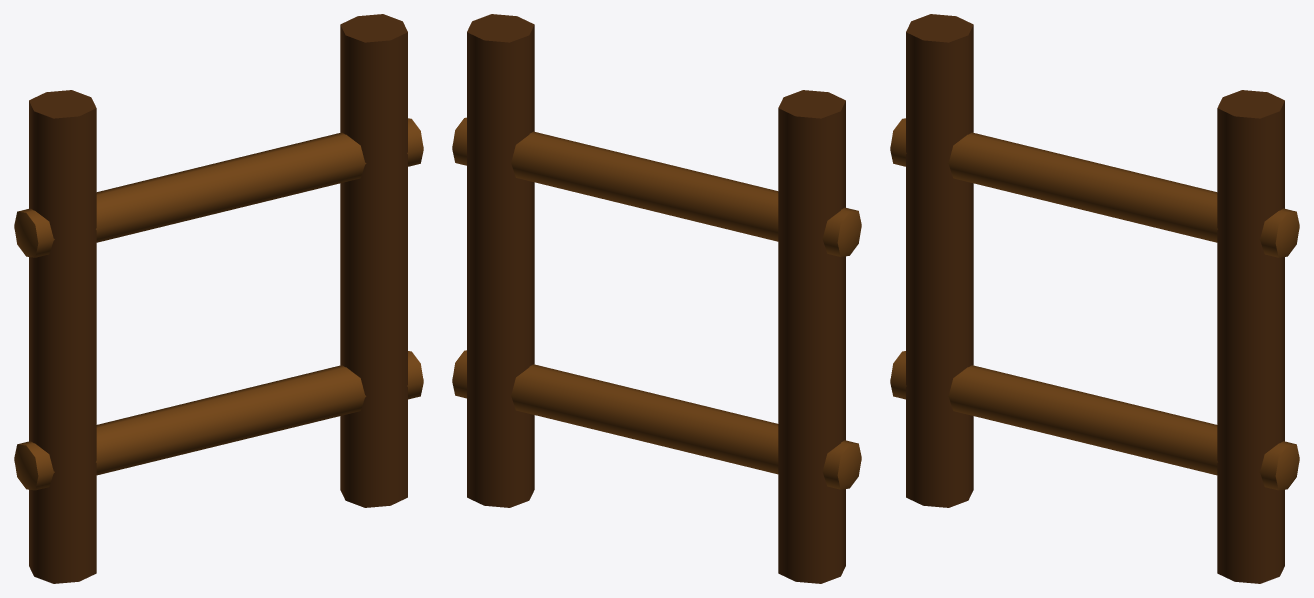
File: Stairs.obj
3 renders of one model, left to right at view 1: azimuth 30°, elevation 25°; view 2: azimuth 150°, elevation 25°; view 3: azimuth 330°, elevation 25°, orthographic.
Visible parts, largest first — view 1: Stairs_Cube.162; view 2: Stairs_Cube.162; view 3: Stairs_Cube.162.
Part boxes in pixels (x1=…): Stairs_Cube.162: x1=14, y1=14, x2=423, y2=583; Stairs_Cube.162: x1=452, y1=14, x2=861, y2=583; Stairs_Cube.162: x1=890, y1=14, x2=1299, y2=583.
Bounding box in the file's own units: 1.77 × 2 × 0.2575.
